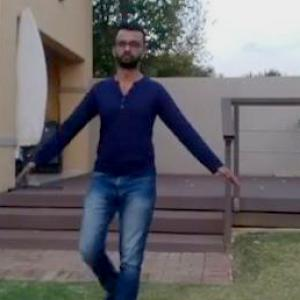land: (34, 24, 238, 299)
